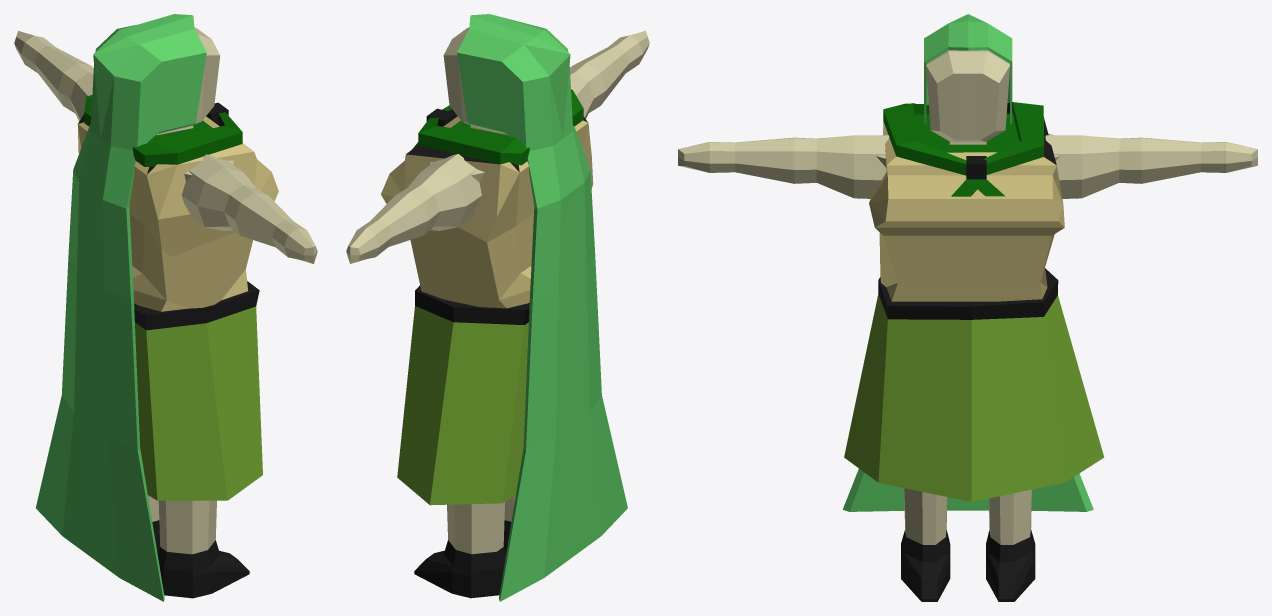
Rendered from Scout T-Pose.fbx.
3 renders of one model, left to right at view 1: azimuth 30°, elevation 25°; view 2: azimuth 150°, elevation 25°; view 3: azimuth 270°, elevation 25°, orthographic.
Parts seen in each view (by area): view 1: Scout Cloak (Head), Scout Skirt (Legs), Basic Hunter, Scout Tunic (Body); view 2: Scout Cloak (Head), Scout Skirt (Legs), Basic Hunter, Scout Tunic (Body); view 3: Scout Skirt (Legs), Basic Hunter, Scout Tunic (Body), Scout Cloak (Head).
Part boxes in pixels (x1=…): Scout Cloak (Head): x1=36, y1=14, x2=206, y2=601; Scout Skirt (Legs): x1=134, y1=281, x2=262, y2=500; Basic Hunter: x1=14, y1=27, x2=317, y2=598; Scout Tunic (Body): x1=77, y1=95, x2=278, y2=311; Scout Cloak (Head): x1=457, y1=14, x2=627, y2=601; Scout Skirt (Legs): x1=397, y1=285, x2=529, y2=505; Basic Hunter: x1=346, y1=27, x2=649, y2=598; Scout Tunic (Body): x1=381, y1=89, x2=593, y2=308; Scout Skirt (Legs): x1=844, y1=268, x2=1104, y2=501; Basic Hunter: x1=678, y1=50, x2=1257, y2=601; Scout Tunic (Body): x1=869, y1=102, x2=1064, y2=301; Scout Cloak (Head): x1=842, y1=14, x2=1093, y2=511.
Bounding box in the file's own units: 292 × 920 × 897.
